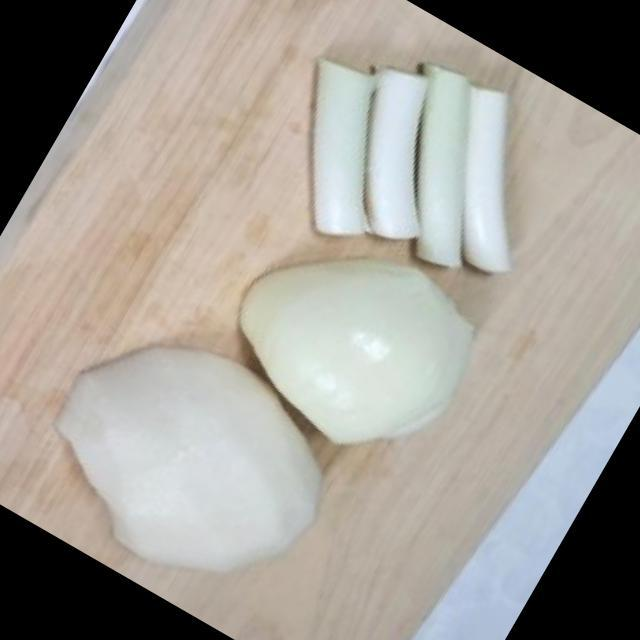Onion: (245, 262, 474, 441)
